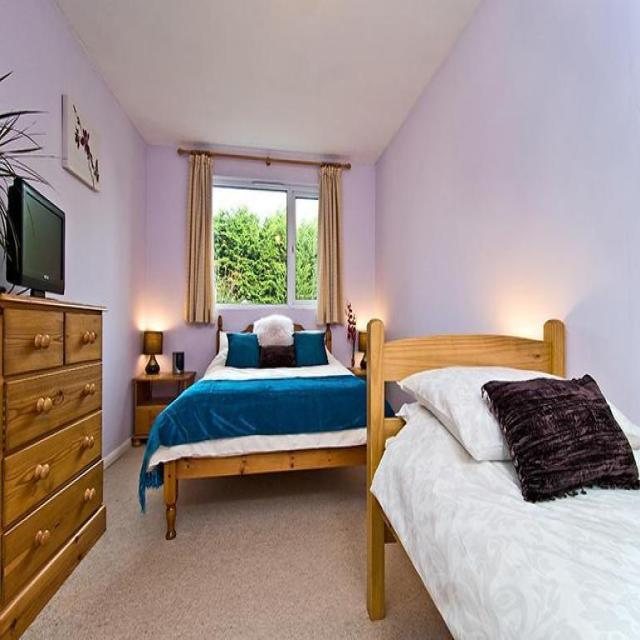bed: (365, 316, 639, 639), (139, 314, 400, 540)
cupboard: (0, 292, 108, 638)
curtains: (183, 150, 215, 324), (316, 161, 346, 325)
lamps: (142, 330, 162, 374)
plants: (0, 68, 57, 282)
television: (5, 175, 66, 297)
window: (210, 174, 319, 311)
